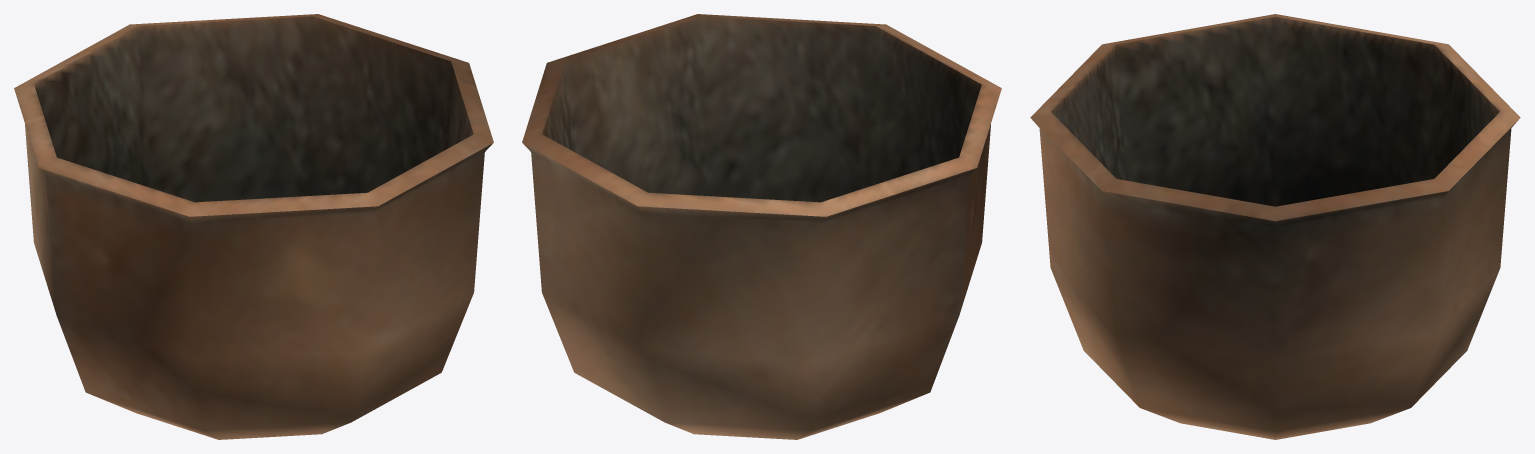
The model's file is Bowl_T03.FBX.
3 renders of one model, left to right at view 1: azimuth 30°, elevation 25°; view 2: azimuth 150°, elevation 25°; view 3: azimuth 270°, elevation 25°, orthographic.
Visible parts, largest first — view 1: Bowl_T03; view 2: Bowl_T03; view 3: Bowl_T03.
Boxes of the visible parts, <box> form: Bowl_T03: <box>14,14,493,439</box>; Bowl_T03: <box>522,14,1001,439</box>; Bowl_T03: <box>1030,14,1520,439</box>.
Size of the model in its own units: 24.13 by 14.73 by 24.13.
